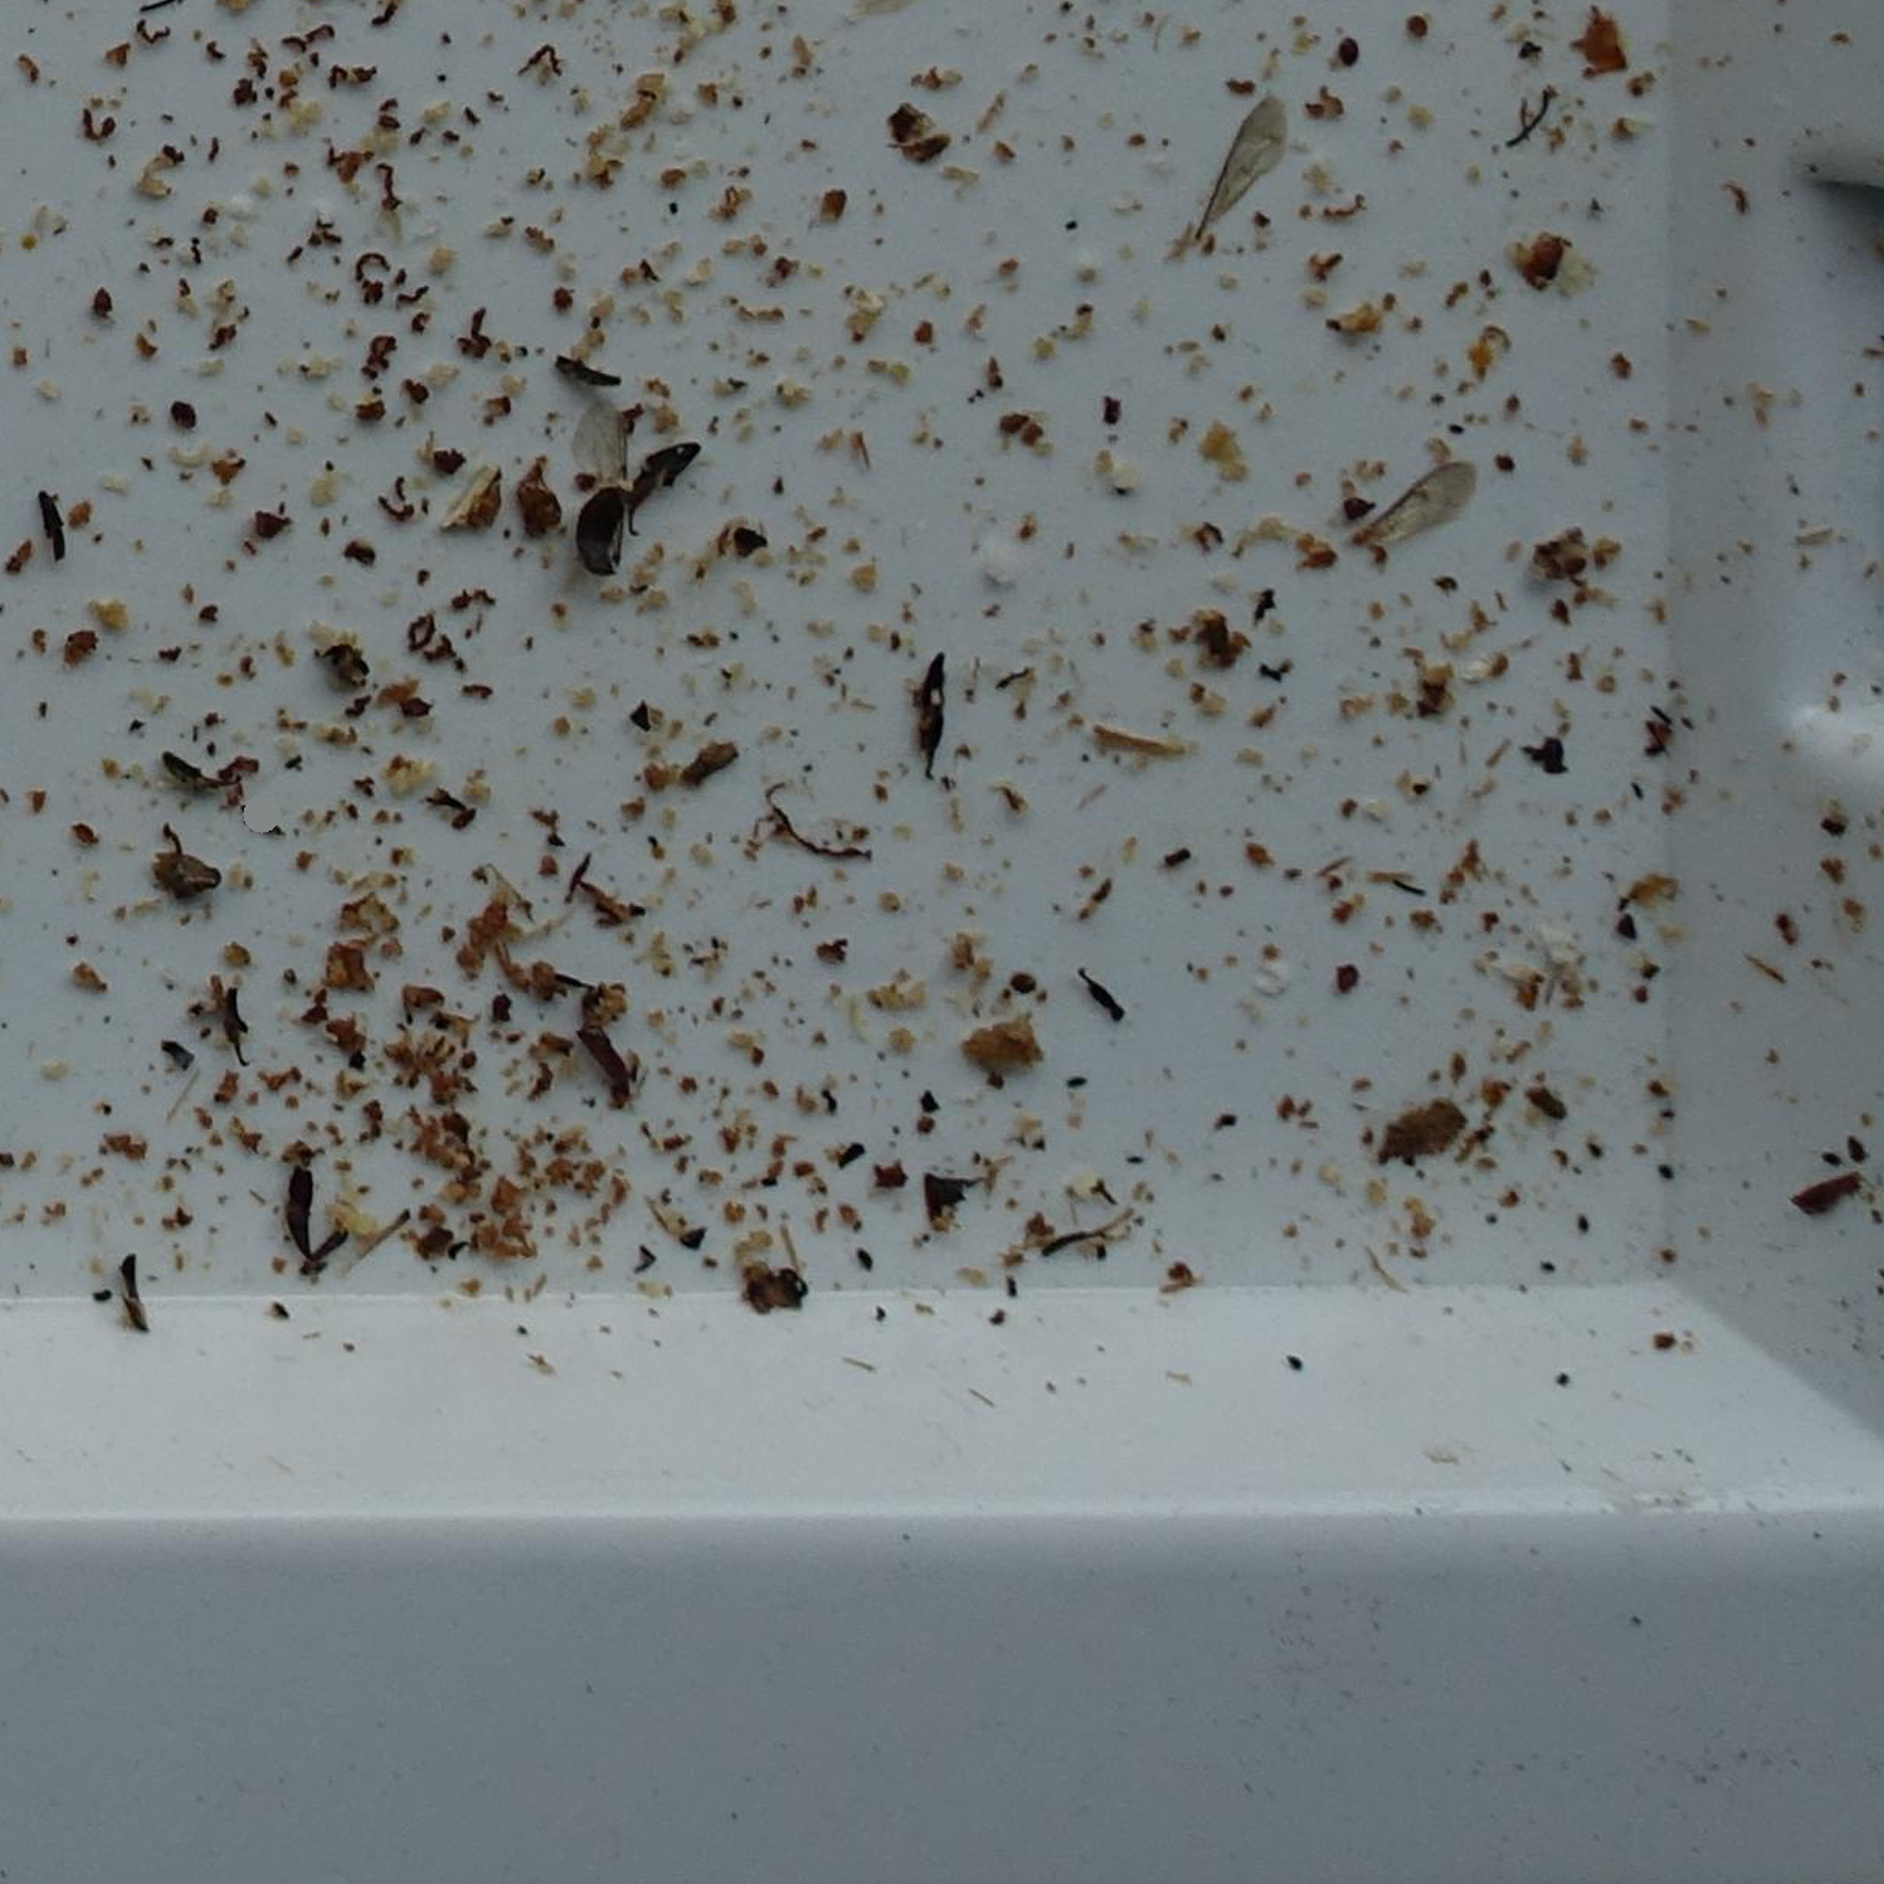Varroa: (1328, 38, 1358, 64), (173, 397, 197, 423), (1011, 971, 1035, 995)
